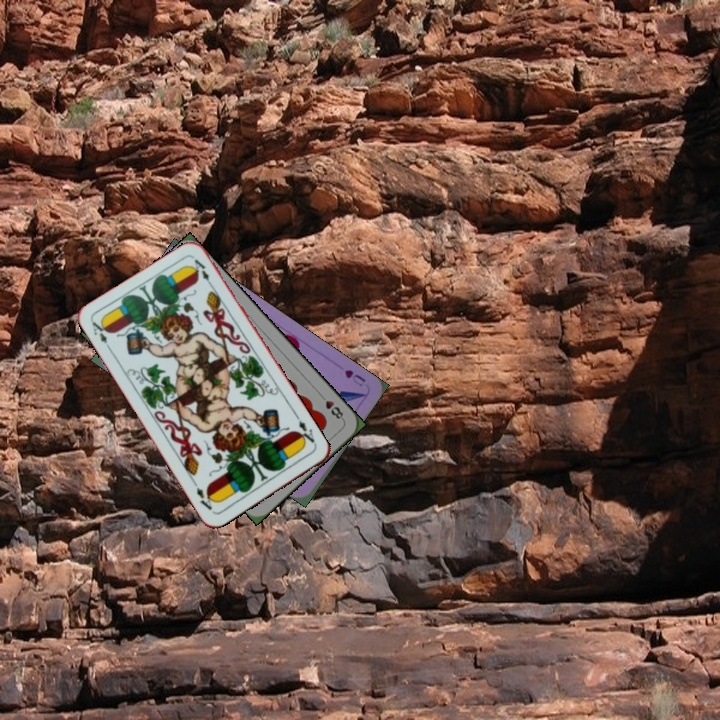EA: (292, 412, 319, 449), (88, 316, 114, 354)
H8: (315, 390, 347, 423)
HU: (340, 365, 368, 389)
